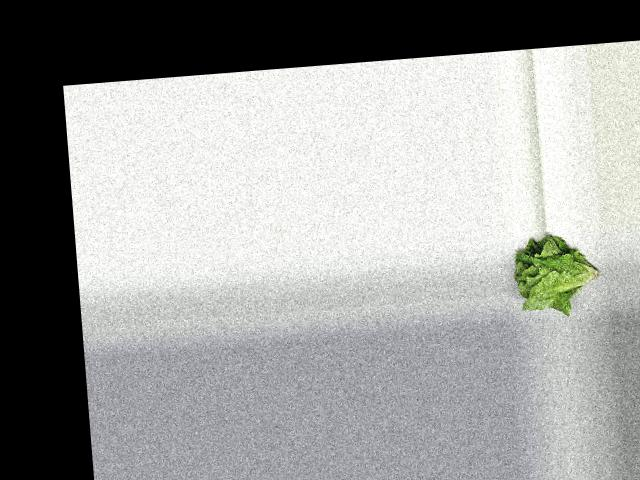lettuce: (506, 232, 605, 312)
